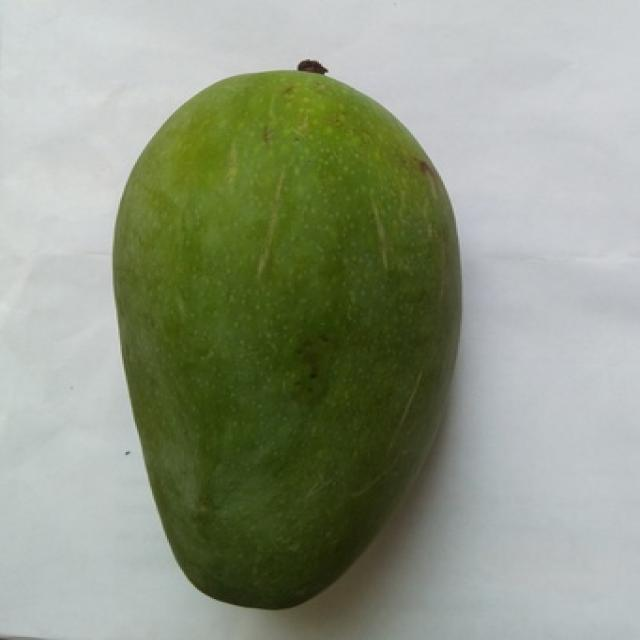Mango: (113, 71, 458, 608)
